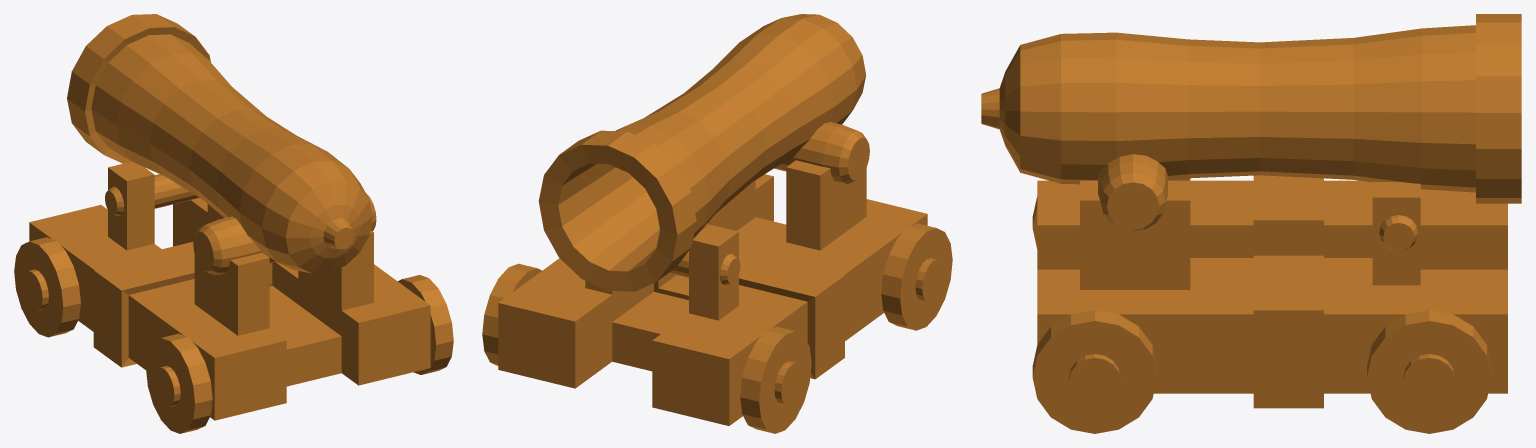
Rendered from top.fbx.
3 views of the same model, side by side, from view 1: azimuth 30°, elevation 25°; view 2: azimuth 150°, elevation 25°; view 3: azimuth 270°, elevation 25° (orthographic). The views are drawn at different scales.
Visible parts, largest first — view 1: Cylinder; view 2: Cylinder; view 3: Cylinder.
Part boxes in pixels (x1,y1,x2,y2): Cylinder: (14,14,453,433); Cylinder: (482,14,952,433); Cylinder: (981,14,1521,433).
Size of the model in its own units: 280 by 257 by 380.
